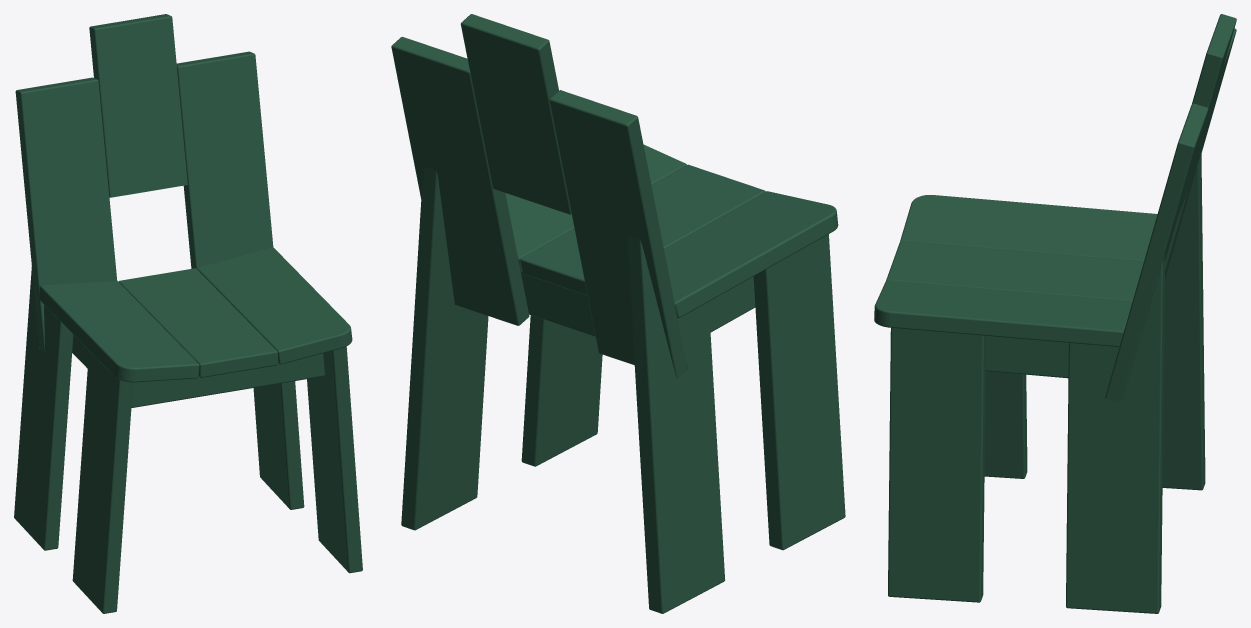
Rendered from greenlaq.glb.
3 renders of one model, left to right at view 1: azimuth 30°, elevation 25°; view 2: azimuth 150°, elevation 25°; view 3: azimuth 270°, elevation 25°, orthographic. The views are drawn at different scales.
Parts seen in each view (by area): view 1: Brep.090, Brep.092, Brep.091, Brep.094, Brep.093, Brep.136, Brep.089, Brep.100, Brep.088, Brep.095, Brep.096; view 2: Brep.093, Brep.094, Brep.095, Brep.090, Brep.092, Brep.091, Brep.089, Brep.088, Brep.100, Brep.136, Brep.099, Brep.098; view 3: Brep.095, Brep.088, Brep.089, Brep.136, Brep.093, Brep.100, Brep.092, Brep.094, Brep.097, Brep.091, Brep.090.
Part boxes in pixels (bbox=[...]): Brep.090: bbox=[15, 77, 117, 351]; Brep.092: bbox=[176, 51, 273, 268]; Brep.091: bbox=[89, 14, 187, 197]; Brep.094: bbox=[72, 351, 133, 613]; Brep.093: bbox=[14, 266, 73, 550]; Brep.136: bbox=[197, 247, 352, 364]; Brep.089: bbox=[39, 281, 199, 382]; Brep.100: bbox=[118, 268, 277, 377]; Brep.088: bbox=[307, 346, 362, 573]; Brep.095: bbox=[253, 381, 304, 509]; Brep.096: bbox=[131, 353, 324, 407]; Brep.093: bbox=[627, 235, 725, 613]; Brep.094: bbox=[753, 234, 845, 550]; Brep.095: bbox=[401, 166, 488, 530]; Brep.090: bbox=[549, 90, 687, 378]; Brep.092: bbox=[391, 36, 529, 325]; Brep.091: bbox=[460, 14, 571, 214]; Brep.089: bbox=[664, 191, 838, 318]; Brep.088: bbox=[521, 315, 602, 466]; Brep.100: bbox=[520, 164, 765, 295]; Brep.136: bbox=[505, 144, 686, 272]; Brep.099: bbox=[521, 271, 595, 336]; Brep.098: bbox=[708, 276, 755, 332]; Brep.095: bbox=[1066, 254, 1165, 613]; Brep.088: bbox=[888, 328, 985, 602]; Brep.089: bbox=[900, 195, 1157, 261]; Brep.136: bbox=[874, 280, 1132, 346]; Brep.093: bbox=[1162, 153, 1205, 490]; Brep.100: bbox=[886, 241, 1143, 300]; Brep.092: bbox=[1105, 103, 1208, 402]; Brep.094: bbox=[984, 371, 1027, 478]; Brep.097: bbox=[985, 336, 1068, 378]; Brep.091: bbox=[1176, 14, 1236, 221]; Brep.090: bbox=[1165, 28, 1236, 278].
Size of the model in its own units: 0.5385 by 0.8791 by 0.5575.
